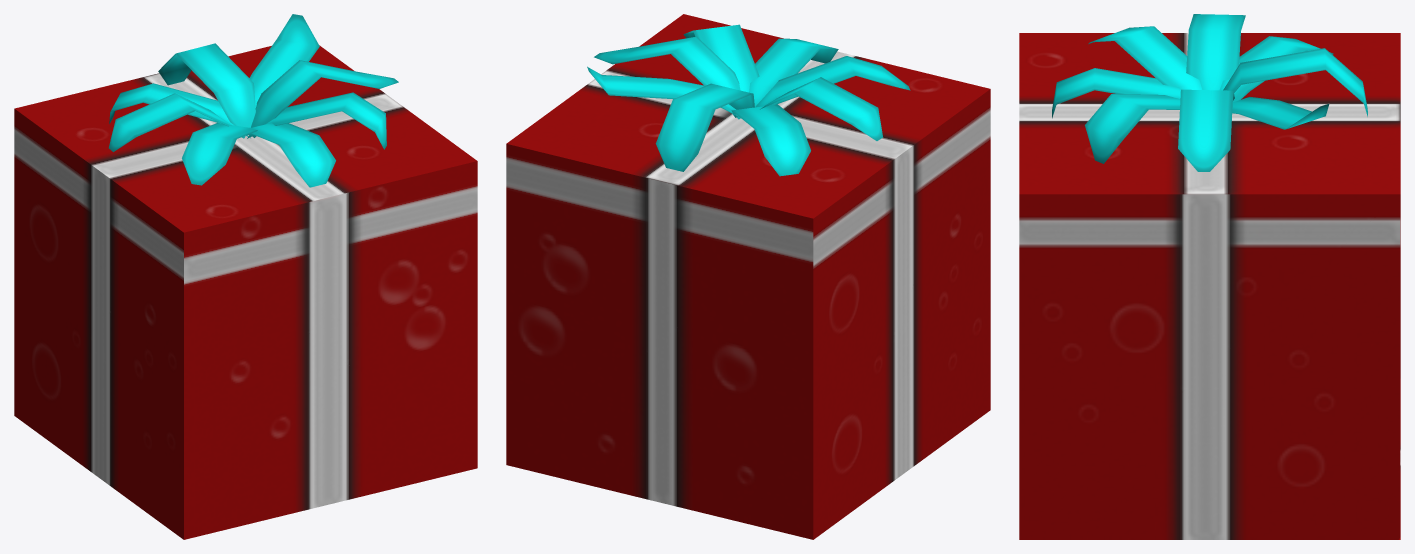
Rendered from Gift_2.fbx.
3 views of the same model, side by side, from view 1: azimuth 30°, elevation 25°; view 2: azimuth 150°, elevation 25°; view 3: azimuth 270°, elevation 25° (orthographic). The views are drawn at different scales.
Visible parts, largest first — view 1: Gift__2; view 2: Gift__2; view 3: Gift__2.
Boxes of the visible parts, x1,y1,x2,y2 form: Gift__2: (14,14,477,539); Gift__2: (506,14,990,539); Gift__2: (1019,14,1400,539).
Size of the model in its own units: 2.01 by 2.38 by 2.
Materials: 1 (1 with a texture image).
